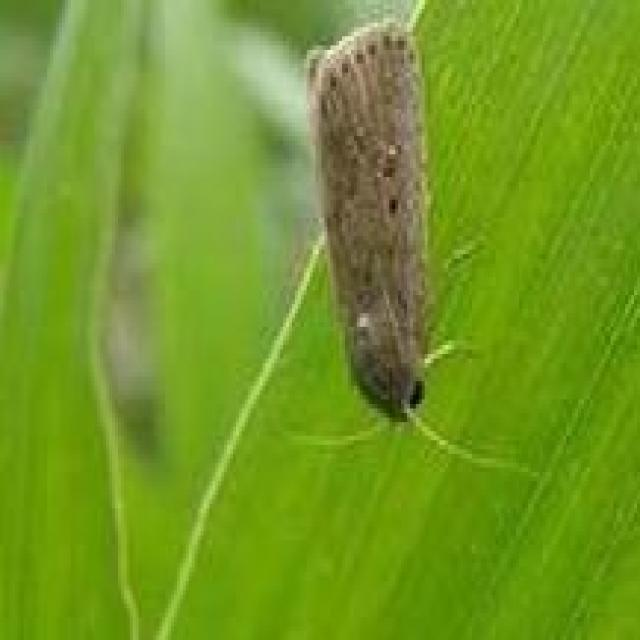BeetArmyWorm-Adult-: (293, 10, 465, 447)
